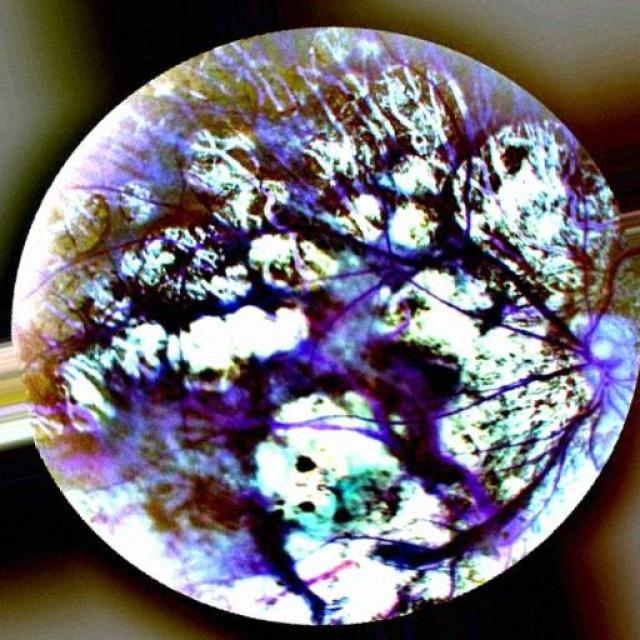Nerves: (421, 356, 609, 557), (300, 357, 599, 427), (451, 220, 579, 335)
Optic Disk: (535, 315, 639, 461)
